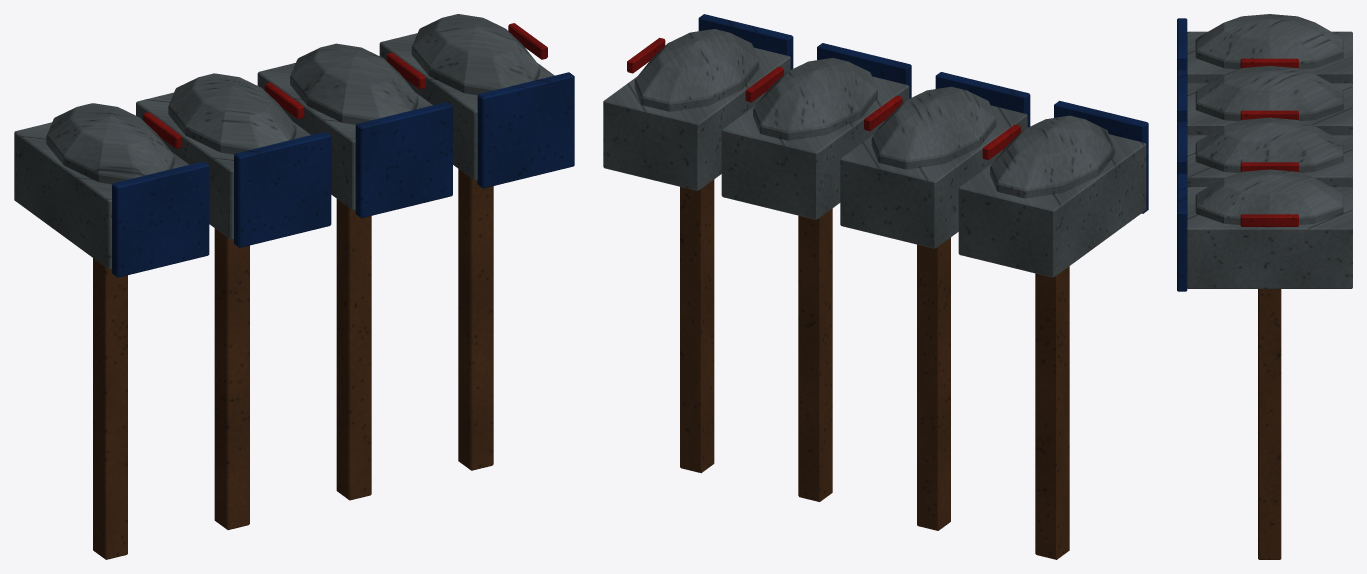
Rendered from PROP-96DD200946B3_lod1.glb.
3 renders of one model, left to right at view 1: azimuth 30°, elevation 25°; view 2: azimuth 150°, elevation 25°; view 3: azimuth 270°, elevation 25°, orthographic. The views are drawn at different scales.
Visible parts, largest first — view 1: mail_post.003, mailbox_door.003, mailbox_round_roof.003, mailbox_lower.003, mailbox_flag.003; view 2: mailbox_lower.003, mail_post.003, mailbox_round_roof.003, mailbox_door.003, mailbox_flag.003; view 3: mailbox_round_roof.003, mailbox_lower.003, mail_post.003, mailbox_door.003, mailbox_flag.003.
Boxes of the visible parts, left/top/right/bottom form: mail_post.003: left=93, top=169, right=493, bottom=559; mailbox_door.003: left=112, top=72, right=574, bottom=277; mailbox_round_roof.003: left=46, top=14, right=539, bottom=184; mailbox_lower.003: left=14, top=33, right=554, bottom=269; mailbox_flag.003: left=143, top=23, right=547, bottom=148; mailbox_lower.003: left=603, top=47, right=1146, bottom=277; mail_post.003: left=680, top=179, right=1069, bottom=559; mailbox_round_roof.003: left=634, top=29, right=1114, bottom=198; mailbox_door.003: left=698, top=14, right=1148, bottom=213; mailbox_flag.003: left=627, top=37, right=1020, bottom=160; mailbox_round_roof.003: left=1195, top=14, right=1343, bottom=227; mailbox_lower.003: left=1186, top=31, right=1352, bottom=288; mail_post.003: left=1258, top=289, right=1281, bottom=559; mailbox_door.003: left=1177, top=18, right=1187, bottom=291; mailbox_flag.003: left=1240, top=58, right=1298, bottom=226.
Bounding box in the file's own units: 1.62 × 1.44 × 0.6025.
4 materials, 4 textured.
